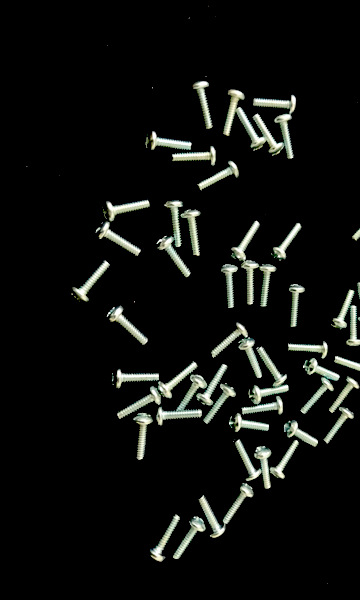shortscrew: (69, 260, 111, 304), (105, 306, 149, 347), (94, 221, 142, 256), (155, 235, 192, 279), (115, 387, 162, 421), (156, 362, 199, 399), (148, 515, 180, 563), (208, 323, 249, 360), (172, 516, 205, 561), (252, 113, 286, 156), (234, 107, 267, 151), (202, 383, 237, 424), (221, 483, 255, 525), (196, 160, 240, 192), (228, 220, 261, 262), (196, 364, 228, 407), (299, 378, 335, 416), (198, 494, 227, 539), (232, 437, 261, 482), (256, 347, 288, 387), (100, 198, 151, 223), (187, 80, 213, 129), (269, 439, 300, 480), (270, 223, 302, 262), (322, 407, 355, 444), (328, 376, 360, 414), (329, 289, 356, 332), (237, 338, 265, 379), (223, 89, 246, 138), (177, 374, 207, 410), (163, 199, 185, 248), (111, 367, 160, 389), (153, 405, 202, 427), (144, 131, 193, 152), (169, 146, 218, 167), (281, 420, 320, 446), (180, 209, 201, 257), (133, 412, 153, 461), (253, 94, 297, 116), (284, 284, 306, 328), (218, 264, 239, 310), (248, 383, 290, 406), (274, 114, 295, 159), (240, 261, 261, 306), (303, 356, 340, 381), (241, 397, 286, 417), (259, 262, 278, 309), (253, 446, 273, 489), (287, 339, 329, 359), (229, 414, 270, 433), (344, 306, 360, 348), (332, 356, 360, 378), (349, 206, 360, 243), (354, 283, 360, 324)
